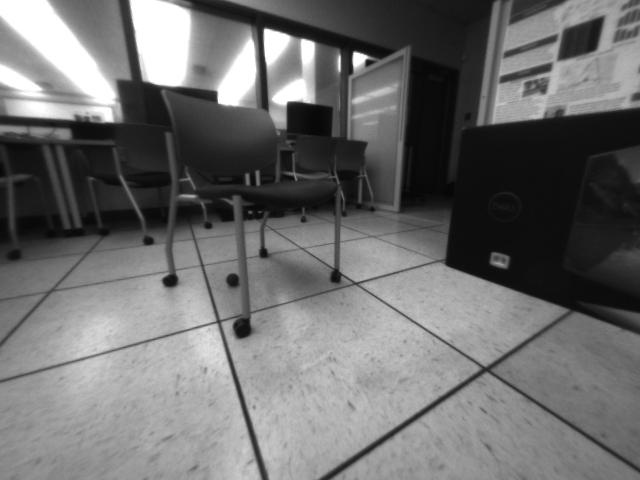dogtoy: (219, 264, 240, 294)
